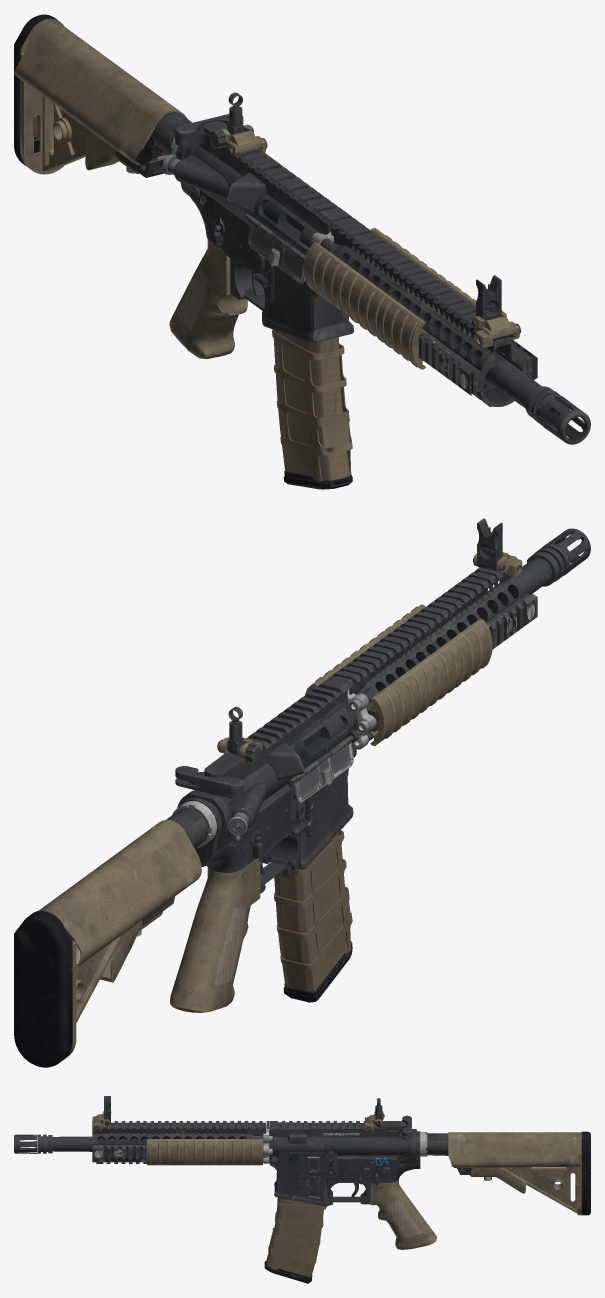
3 views of the same model, one above another, from view 1: azimuth 30°, elevation 25°; view 2: azimuth 150°, elevation 25°; view 3: azimuth 270°, elevation 25° (orthographic). The views are drawn at different scales.
Visible parts, largest first — view 1: m4a1; view 2: m4a1; view 3: m4a1.
Boxes of the visible parts, x1,y1,x2,y2 form: m4a1: (14, 14, 590, 489); m4a1: (14, 518, 590, 1067); m4a1: (14, 1096, 590, 1283).
Size of the model in its own units: 0.0587 by 0.2262 by 0.65.
Materials: 2 (2 with a texture image).
